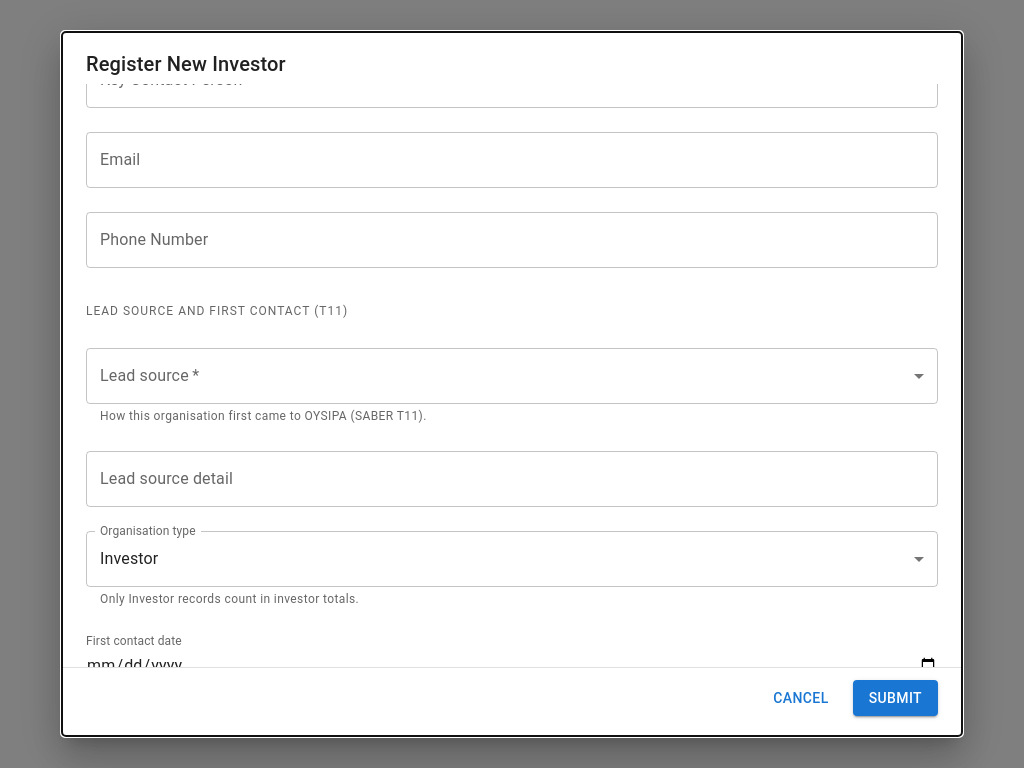
Scenario: New-investor form (T11) › "Unknown (pre-T11)" is not offered
The width and height of the screenshot is (1024, 768).
(page scrolled)
Click the dropdown named "lead source".
click(512, 376)  # box [86, 348, 938, 404]
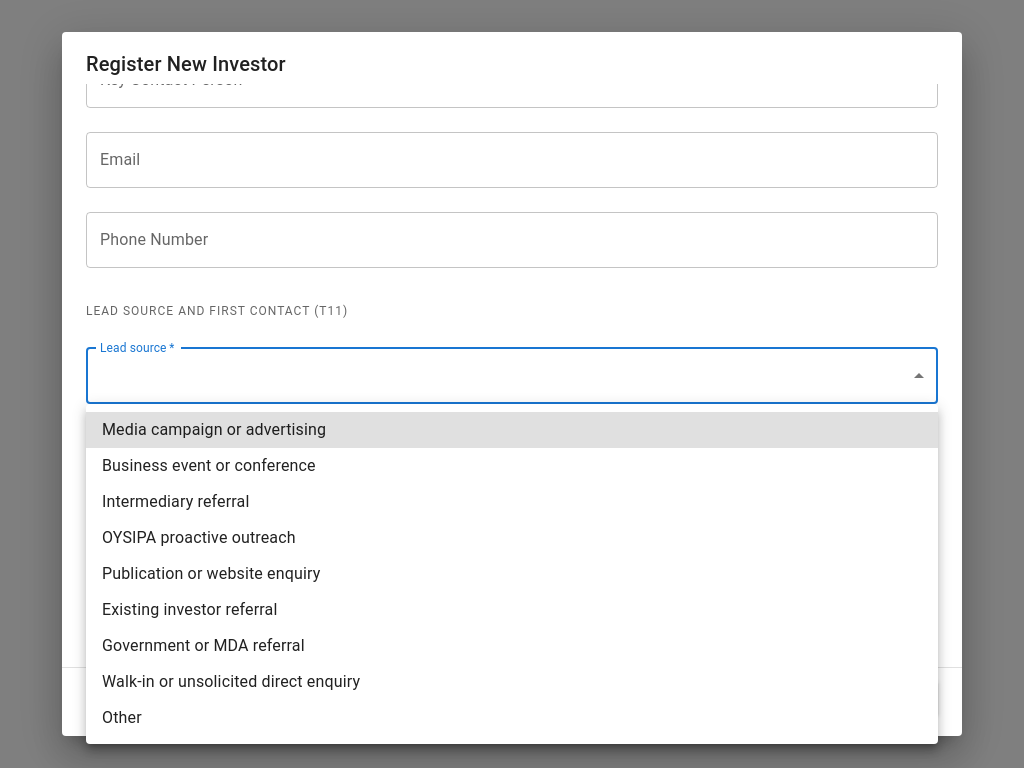
expect the option "Other" is shown: met, box [102, 708, 142, 727]
